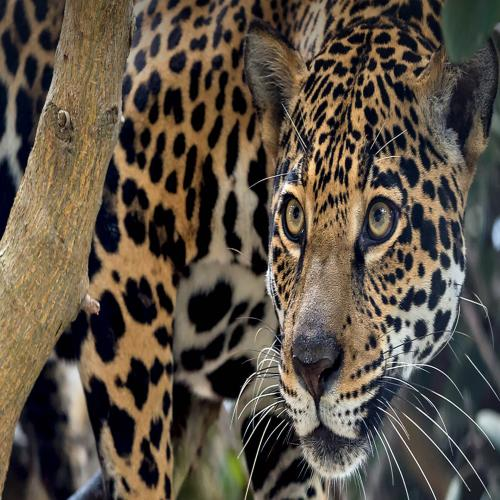jaguar_not-endangered: (10, 17, 497, 493)
